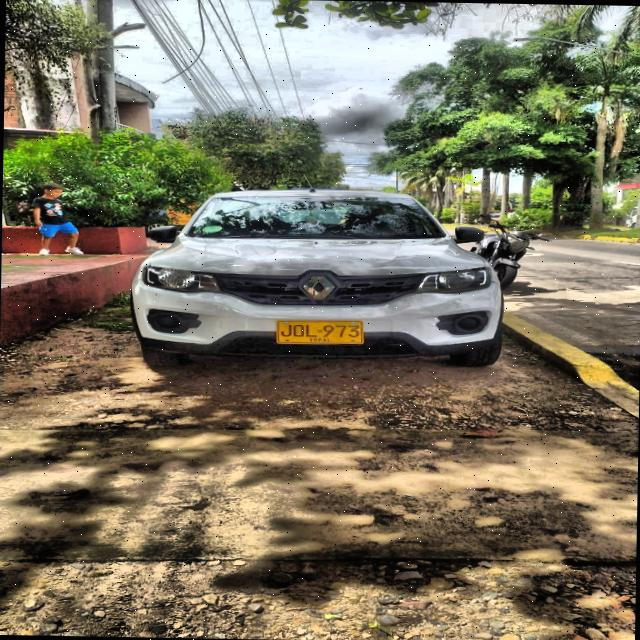3: (347, 324, 360, 338)
7: (334, 324, 348, 338)
9: (322, 324, 335, 337)
J: (280, 324, 292, 337)
L: (305, 323, 318, 337)
O: (292, 324, 305, 337)
